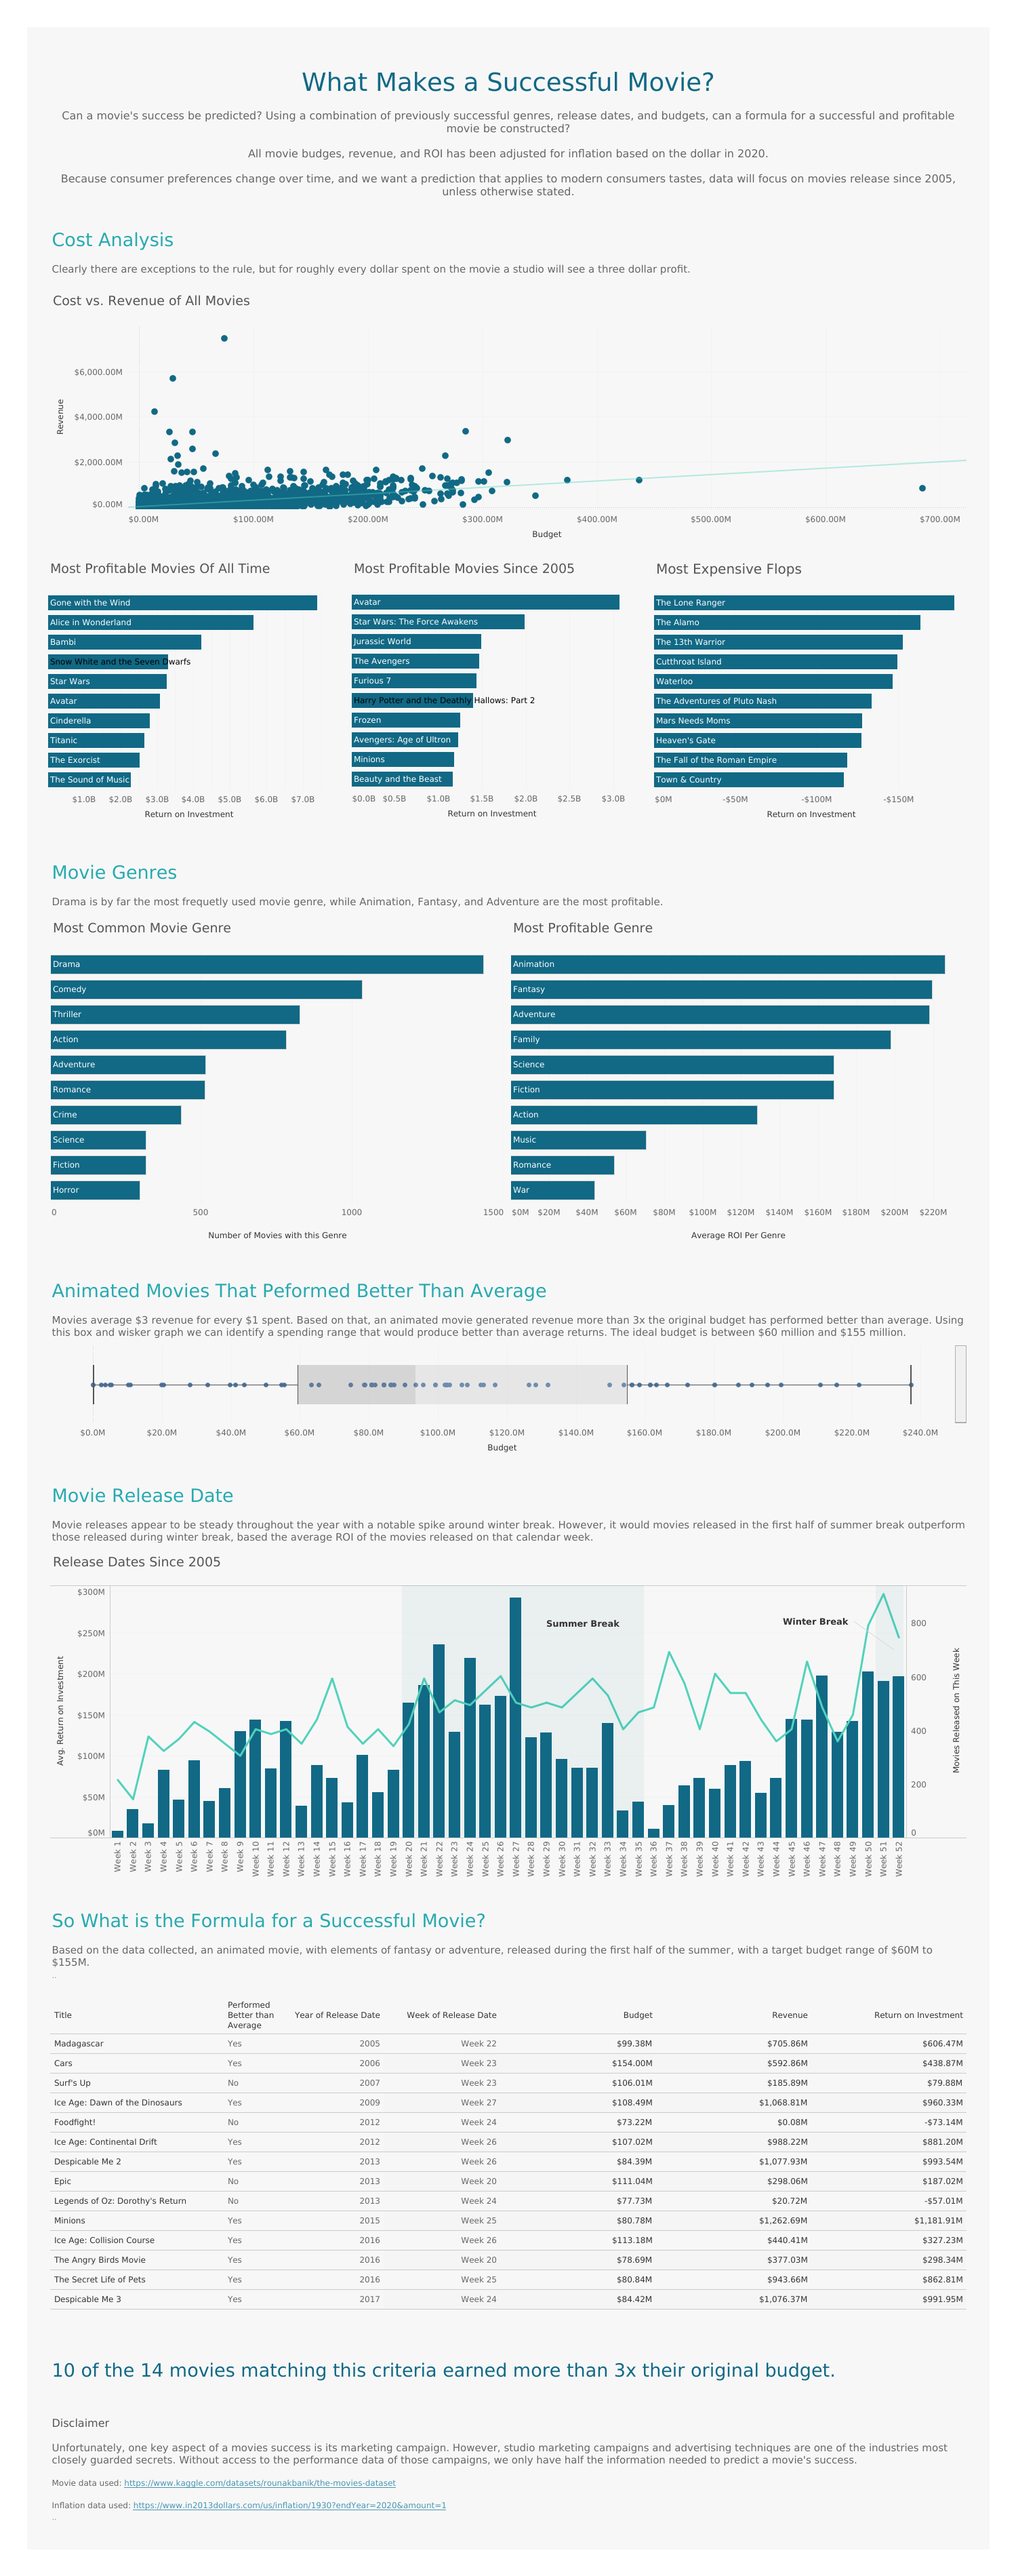

The page's visual inventory and layout, read from the dashboard file:
{"tool":"tableau","page":{"name":"Dashboard 1","canvas":[1000,1000],"units":"permille","ordinal":0},"visuals":[{"type":"text","box":[46.7,18.4,906.7,66]},{"type":"text","box":[46.7,84.5,906.7,26.5]},{"type":"worksheet","title":"Cost vs. Revenue","mark":"Automatic","rows":["revenue_adjusted_to_2020 (movie_data_cleaned.csv)"],"cols":["budget_adjusted_to_2020 (movie_data_cleaned.csv)"],"box":[46.7,111,906.7,101.1]},{"type":"worksheet","title":"All Time Profitable Movies","mark":"Bar","rows":["id"],"cols":["Calculation_1070097517100118036"],"box":[46.7,212.1,288.6,111.8]},{"type":"worksheet","title":"Profitable Modern Movies","mark":"Bar","rows":["id"],"cols":["Calculation_1070097517100118036"],"box":[335.2,212.1,297.3,111.8]},{"type":"worksheet","title":"Most Expensive Flops","mark":"Bar","rows":["id"],"cols":["Calculation_1070097517100118036"],"box":[632.6,212.1,320.8,111.8]},{"type":"blank","box":[46.7,323.9,906.7,9.2]},{"type":"text","box":[46.7,333.2,906.7,21.3]},{"type":"worksheet","title":"Common Genres","mark":"Bar","rows":["Pivot Field Values"],"cols":["Pivot Field Values"],"box":[46.7,354.5,452.9,132.6]},{"type":"worksheet","title":"Profitable Genres","mark":"Bar","rows":["Pivot Field Values"],"cols":["Calculation_1070097517100118036"],"box":[499.6,354.5,453.8,132.6]},{"type":"blank","box":[46.7,487.1,906.7,8.4]},{"type":"text","box":[46.7,495.5,906.7,25.5]},{"type":"worksheet","title":"Budgets Perform Better than Average","mark":"Circle","rows":["Calculation_1070097518526709804"],"cols":["budget_adjusted_to_2020 (movie_data_cleaned.csv)"],"box":[46.7,521,906.7,45.5]},{"type":"blank","box":[46.7,566.6,906.7,8.4]},{"type":"text","box":[46.7,575,906.7,25.5]},{"type":"worksheet","title":"Release Date","mark":"Bar","rows":["Calculation_1070097517100118036","release_date"],"cols":["release_date"],"box":[46.7,600.5,906.7,129.7]},{"type":"blank","box":[46.7,730.3,906.7,9.7]},{"type":"text","box":[46.7,740,906.7,33.4]},{"type":"worksheet","title":"Movies that Fit the Formula","mark":"Automatic","rows":["title","Calculation_1070097518526709804","release_date","release_date"],"box":[46.7,773.4,906.7,130.3]},{"type":"text","box":[46.7,903.7,906.7,32.4]},{"type":"text","box":[46.7,936.1,906.7,22.9]},{"type":"text","box":[46.7,959,906.7,22.6]}]}

Visuals, with their boxes on the dashboard's canvas, which has no fixed pixel size, in thousandths of its width and height (x1, y1, x2, y2). These are canvas units, not pixel positions in the 1016x2576 screenshot, which may show the page scaled, cropped or inside an application window:
text: (47, 18, 953, 84)
text: (47, 84, 953, 111)
"Cost vs. Revenue" worksheet: (47, 111, 953, 212)
"All Time Profitable Movies" worksheet (Bar marks): (47, 212, 335, 324)
"Profitable Modern Movies" worksheet (Bar marks): (335, 212, 632, 324)
"Most Expensive Flops" worksheet (Bar marks): (633, 212, 953, 324)
blank: (47, 324, 953, 333)
text: (47, 333, 953, 354)
"Common Genres" worksheet (Bar marks): (47, 354, 500, 487)
"Profitable Genres" worksheet (Bar marks): (500, 354, 953, 487)
blank: (47, 487, 953, 496)
text: (47, 496, 953, 521)
"Budgets Perform Better than Average" worksheet (Circle marks): (47, 521, 953, 566)
blank: (47, 567, 953, 575)
text: (47, 575, 953, 600)
"Release Date" worksheet (Bar marks): (47, 600, 953, 730)
blank: (47, 730, 953, 740)
text: (47, 740, 953, 773)
"Movies that Fit the Formula" worksheet: (47, 773, 953, 904)
text: (47, 904, 953, 936)
text: (47, 936, 953, 959)
text: (47, 959, 953, 982)
